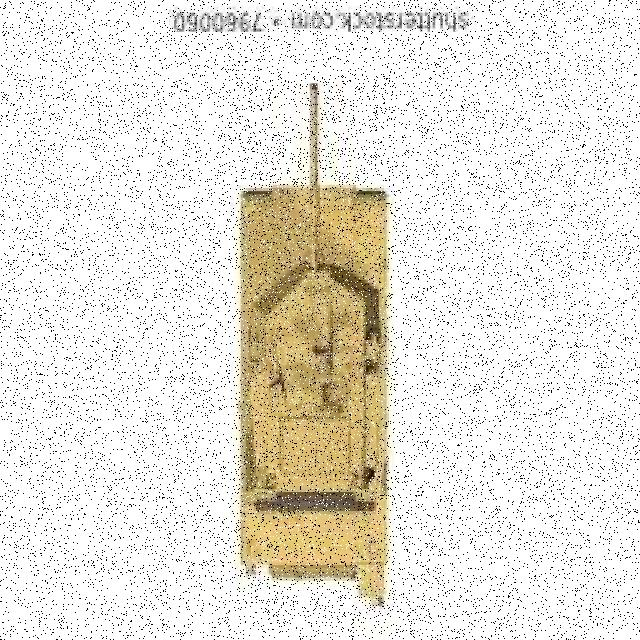MIL_MBT: (236, 75, 394, 620)
